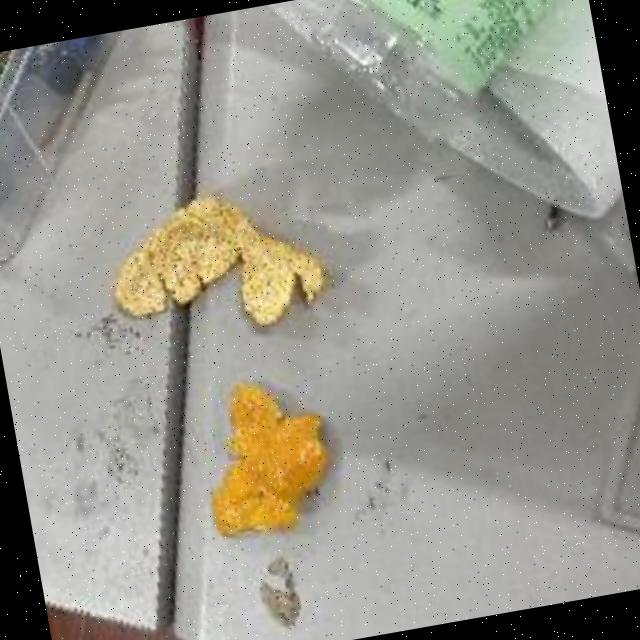orange-peel: (187, 364, 343, 544)
